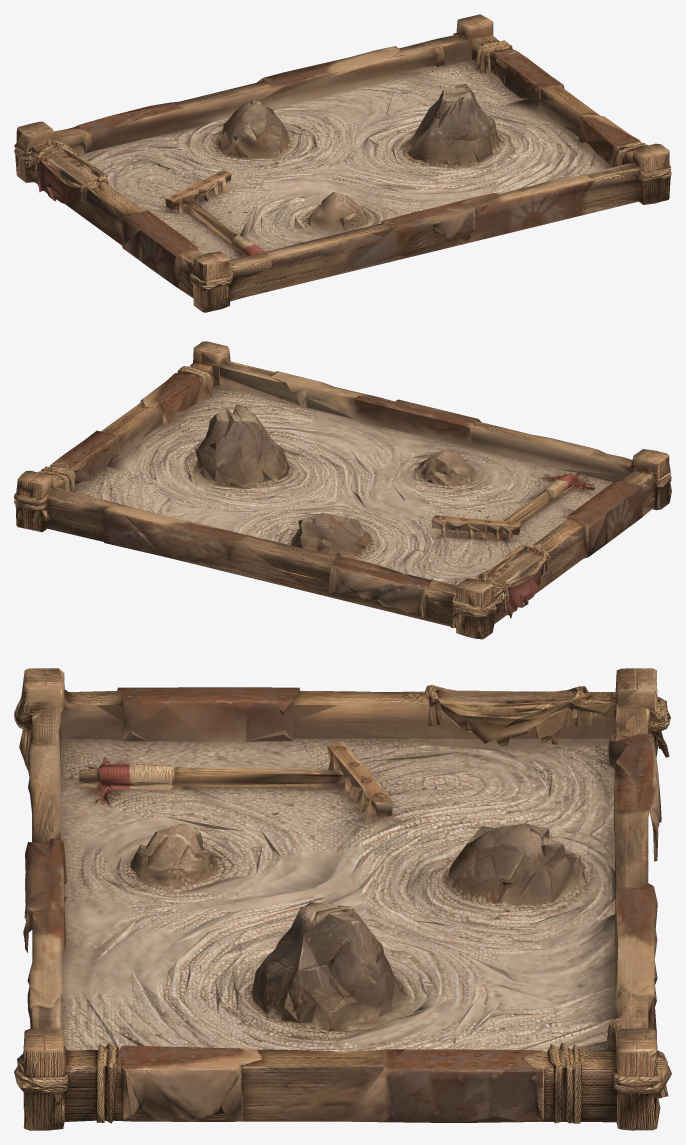
File: zen-garden.glb
The picture shows the model from 3 angles, top to bottom: view 1: azimuth 30°, elevation 25°; view 2: azimuth 150°, elevation 25°; view 3: azimuth 270°, elevation 25°; orthographic projection. The views are drawn at different scales.
Bounding box in the file's own units: 2.67 × 0.4 × 1.91.
Materials: 1 (1 with a texture image).
